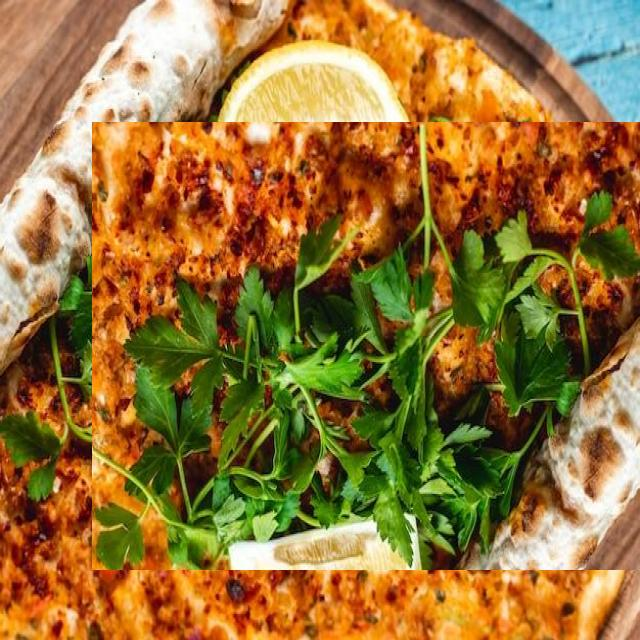basil: (92, 122, 640, 570)
pizza: (0, 0, 640, 640)
